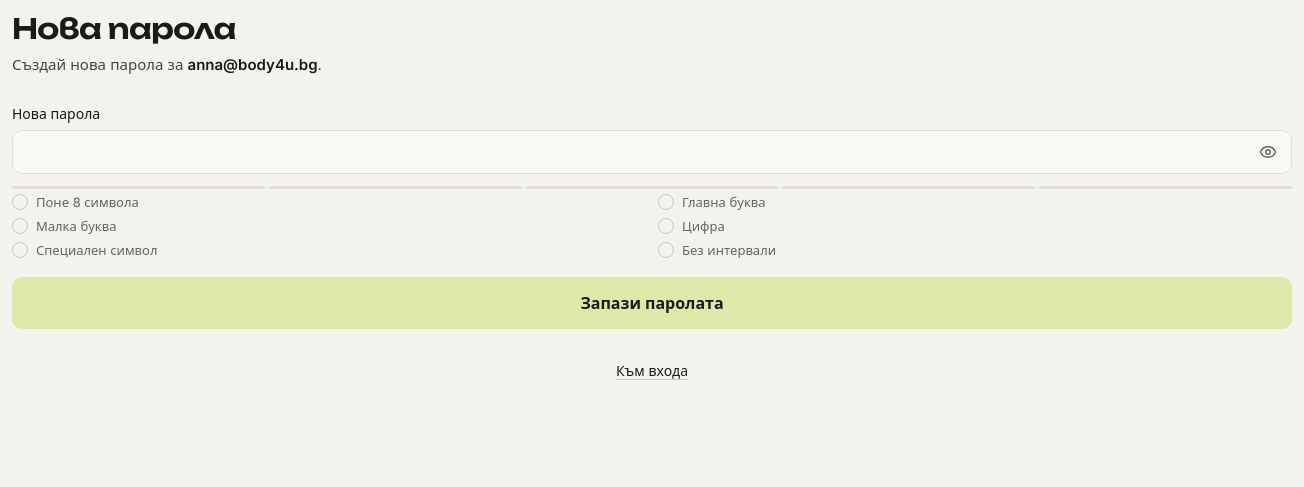
Test case: ResetPasswordPage › keeps the typed password on a server error
Type "NovaParola1!" into the password field labelled "Нова парола" at point(652, 152), box [12,130,1292,174]
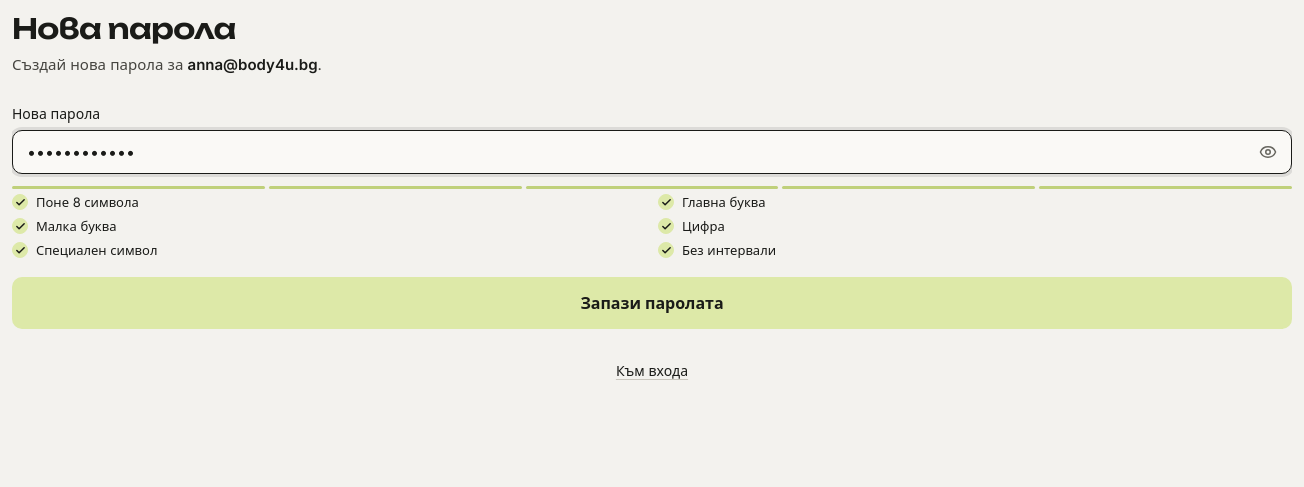
Click the button "Запази паролата" at point(652, 303), box [12,277,1292,329]
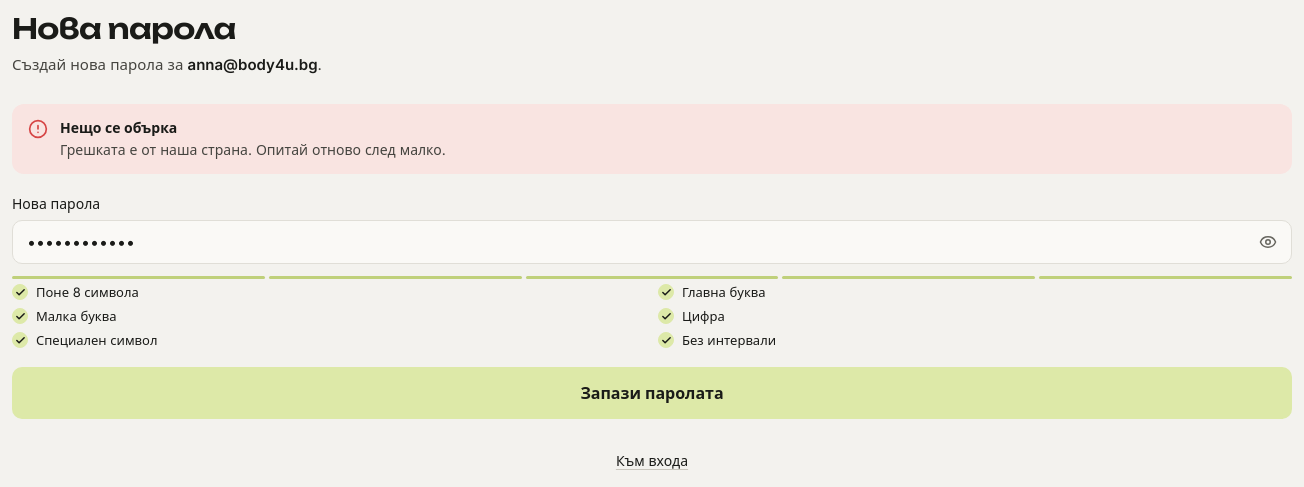
Result: the text "Грешката е от наша страна. Опитай отново след малко." is shown at [60,141,446,158]
